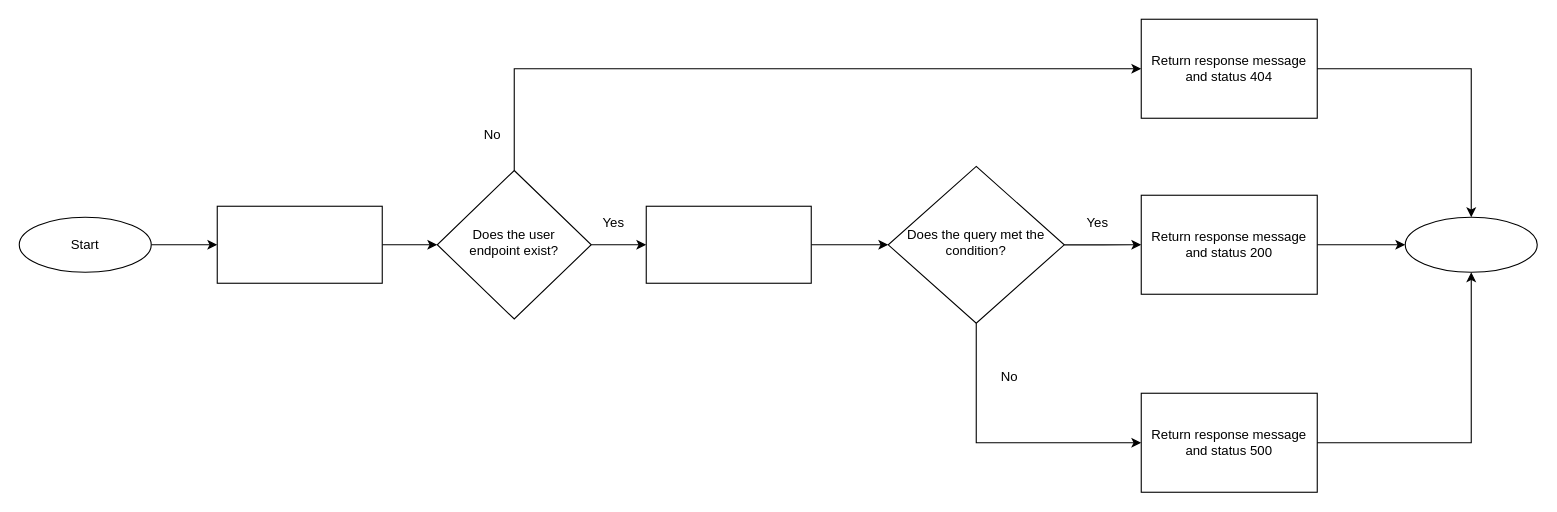
Image size: 1557x512. Some labels were removed from this diagram. The centre of each missing label's shape, as x and y in pixels:
Call required function: (728,244)
End: (1470,244)
Receive Request: (299,244)
